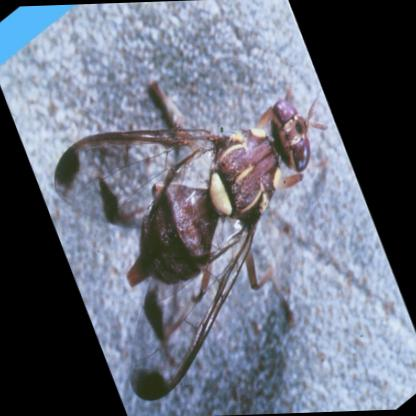fruit fly: (53, 96, 327, 401)
